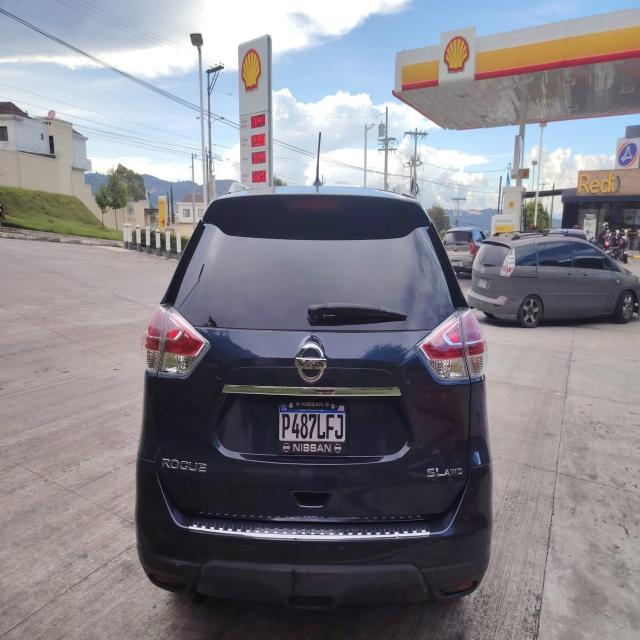Placas: (276, 396, 354, 469)
